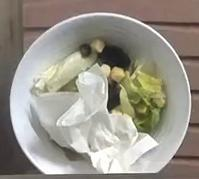lettuce: (109, 65, 164, 130)
vegetables: (35, 39, 131, 92)
